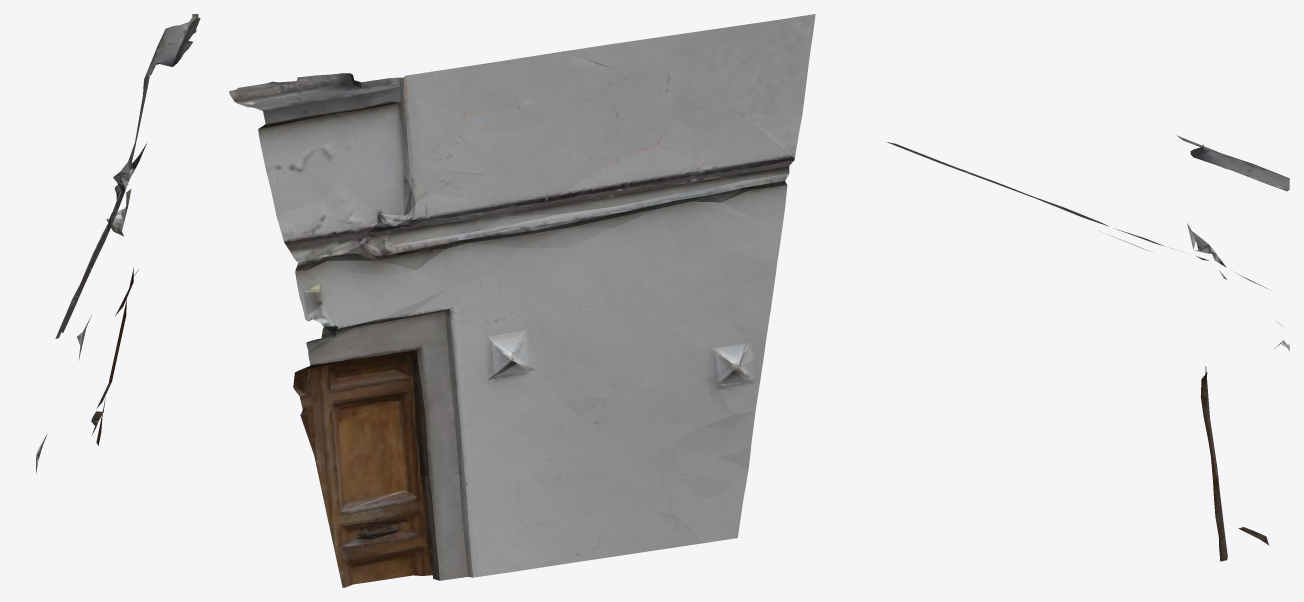
The picture shows the model from 3 angles, left to right: view 1: azimuth 30°, elevation 25°; view 2: azimuth 150°, elevation 25°; view 3: azimuth 270°, elevation 25°; orthographic projection. The views are drawn at different scales.
Bounding box in the file's own units: 2.7 × 3.35 × 2.96.
2 materials, 2 textured.
